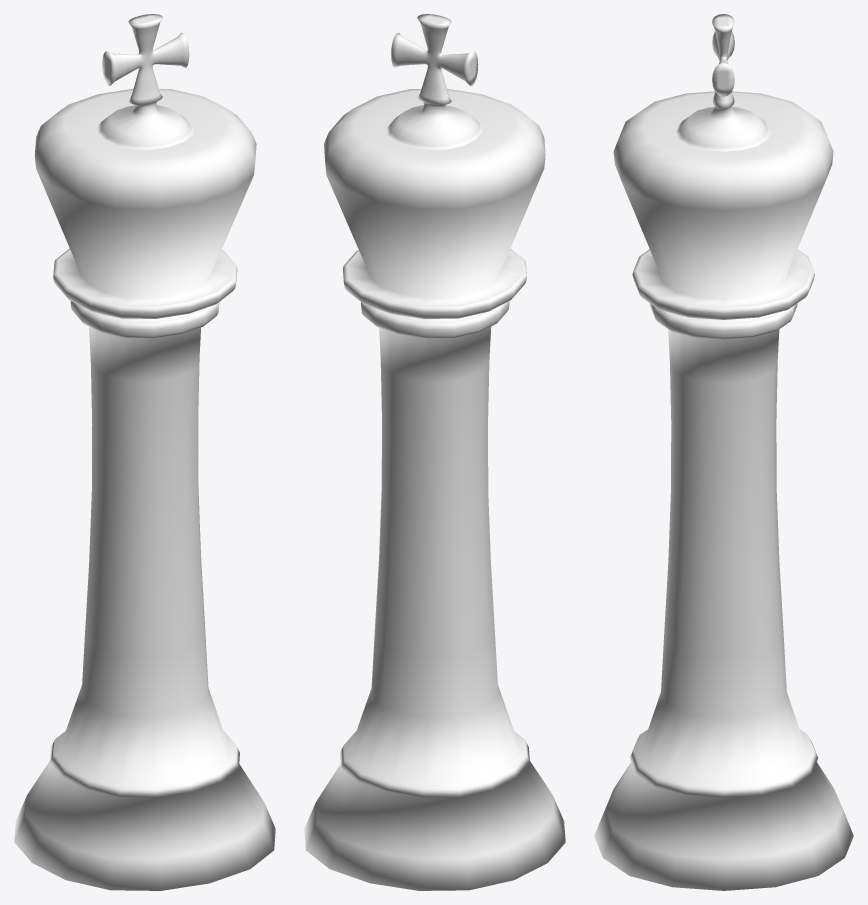
The model's file is Rai.fbx.
3 renders of one model, left to right at view 1: azimuth 30°, elevation 25°; view 2: azimuth 150°, elevation 25°; view 3: azimuth 270°, elevation 25°, orthographic.
Visible parts, largest first — view 1: Cube; view 2: Cube; view 3: Cube.
Part boxes in pixels (x1,y1,x2,y2): Cube: [14, 14, 275, 890]; Cube: [304, 14, 565, 890]; Cube: [594, 14, 853, 890].
Size of the model in its own units: 138 by 476 by 138.
